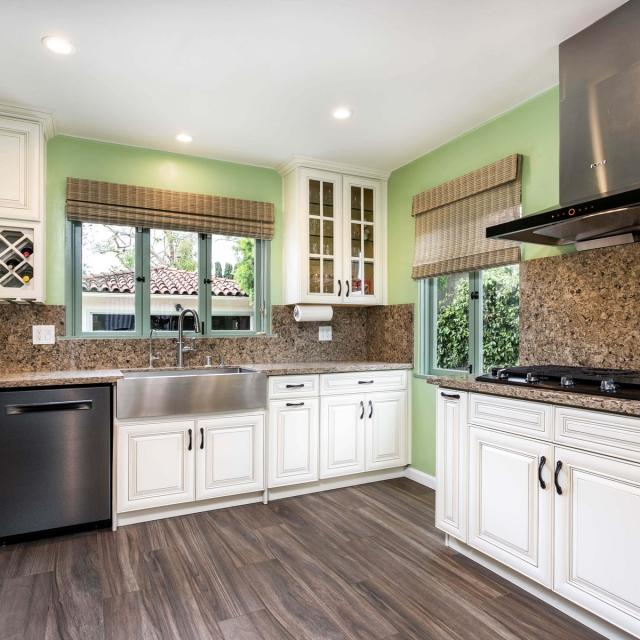Appliance_Dishwasher: (0, 382, 115, 545)
Appliance_Sink: (116, 305, 267, 418)
Appliance_Stove: (475, 365, 640, 407)
Cabinet_Glass: (271, 163, 387, 307)
Cabinet_Raised_Panel: (436, 389, 640, 640), (114, 369, 413, 514), (0, 113, 41, 222)
Countertop_Granite: (427, 377, 640, 417), (0, 369, 124, 387), (239, 363, 410, 375)
